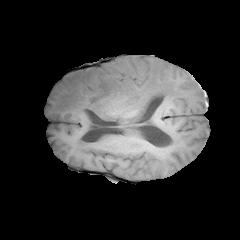glioma: (52, 61, 181, 123)
